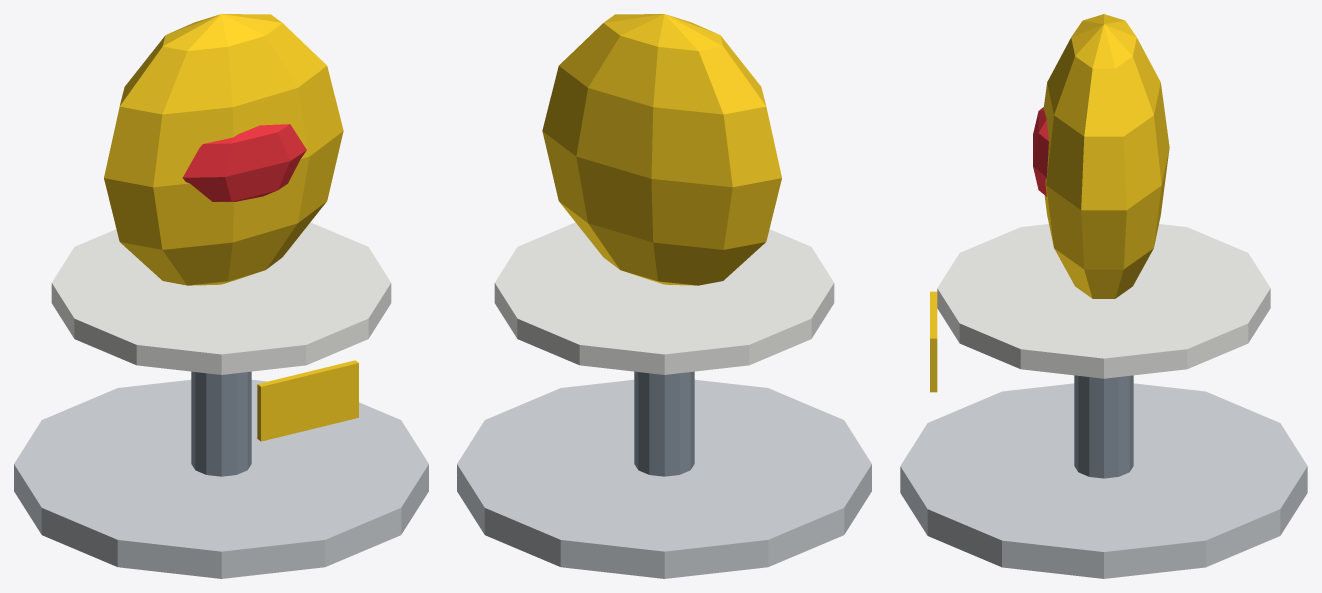
Rendered from item-chips.glb.
The picture shows the model from 3 angles, left to right: view 1: azimuth 30°, elevation 25°; view 2: azimuth 150°, elevation 25°; view 3: azimuth 270°, elevation 25°; orthographic projection.
Visible parts, largest first — view 1: item-chips; view 2: item-chips; view 3: item-chips.
Part boxes in pixels (bbox=[...]): item-chips: bbox=[14, 14, 428, 578]; item-chips: bbox=[457, 14, 871, 578]; item-chips: bbox=[900, 14, 1307, 578].
Bounding box in the file's own units: 1.1 × 1.4 × 1.1.
